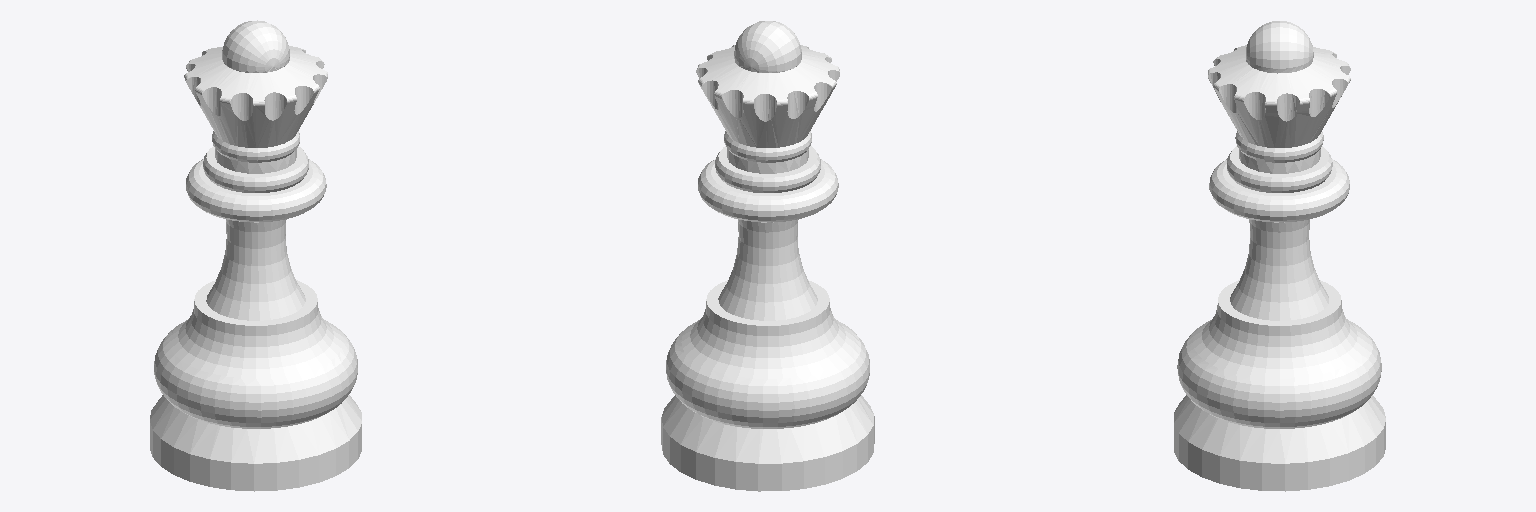
URDF robot description (Queen_black):
<?xml version="1.0" encoding="utf-8"?>
<!-- This URDF was automatically created by SolidWorks to URDF Exporter! Originally created by [author] ([email redacted]) 
     Commit Version: 1.5.1-0-g916b5db  Build Version: 1.5.7152.31018
     For more information, please see http://wiki.ros.org/sw_urdf_exporter -->
<robot
  name="Queen_black">
  <link
    name="Queen_black">
    <inertial>
      <origin
        xyz="3.202E-11 6.62672132312288E-17 0.019079"
        rpy="0 0 0" />
      <mass
        value="0.012934" />
      <inertia
        ixx="3.9817E-06"
        ixy="-3.74609992339475E-23"
        ixz="-1.2511E-14"
        iyy="3.9817E-06"
        iyz="2.66412597505324E-20"
        izz="7.5225E-07" />
    </inertial>
    <visual>
      <origin
        xyz="0 0 0"
        rpy="1.5707963267949 0 0" />
      <geometry>
        <mesh
          filename="package://Queen_black/meshes/Queen_black.STL" />
      </geometry>
      <material
        name="">
        <color
          rgba="1 1 1 1" />
        <texture
          filename="package://Queen_black/textures/" />
      </material>
    </visual>
    <collision>
      <origin
        xyz="0 0 0"
        rpy="1.5707963267949 0 0" />
      <geometry>
        <mesh
          filename="package://Queen_black/meshes/Queen_black.STL" />
      </geometry>
    </collision>
  </link>
</robot>

--- Render facts (derived) ---
3 views of the same robot in one strip: view 1: azimuth 30°, elevation 25°; view 2: azimuth 150°, elevation 25°; view 3: azimuth 270°, elevation 25° (orthographic).
Robot: Queen_black — 1 links, 0 joints (none); root link Queen_black; default pose: every joint at zero.
Links seen in each view (by area): view 1: Queen_black; view 2: Queen_black; view 3: Queen_black.
Link boxes in pixels (<box>): Queen_black: <box>150,20,361,491</box>; Queen_black: <box>661,21,874,491</box>; Queen_black: <box>1174,21,1385,491</box>.
Size in the robot's own frame: 0.027 by 0.0269 by 0.0591 metres.
Meshes: 1 distinct files referenced, 1 mesh visuals loaded (1 binary STL).
